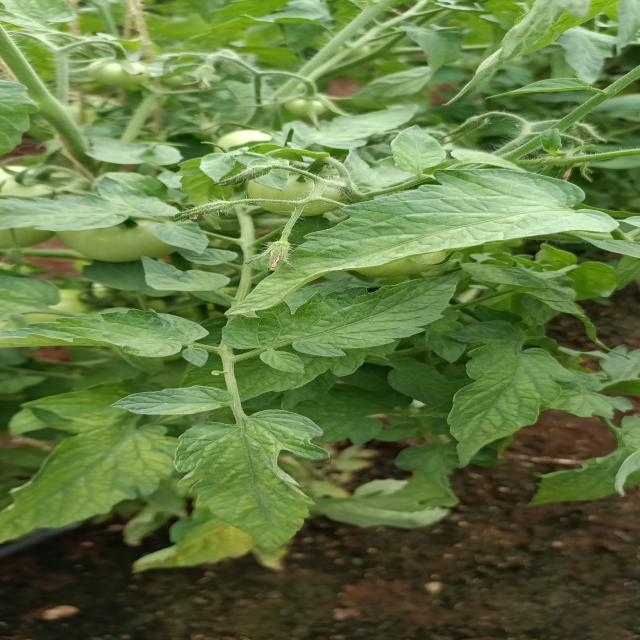Healthy Leaf: (252, 165, 613, 308), (156, 412, 351, 566), (432, 317, 572, 456), (269, 262, 462, 361), (103, 385, 250, 419)
